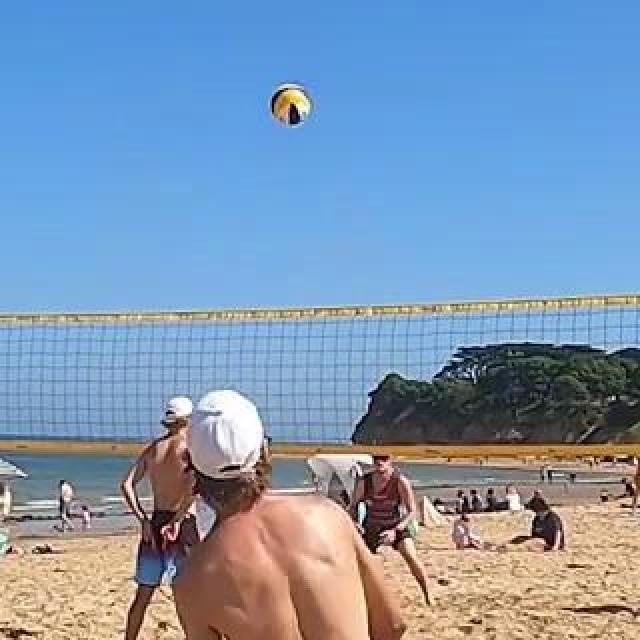volleyball: (273, 85, 311, 123)
